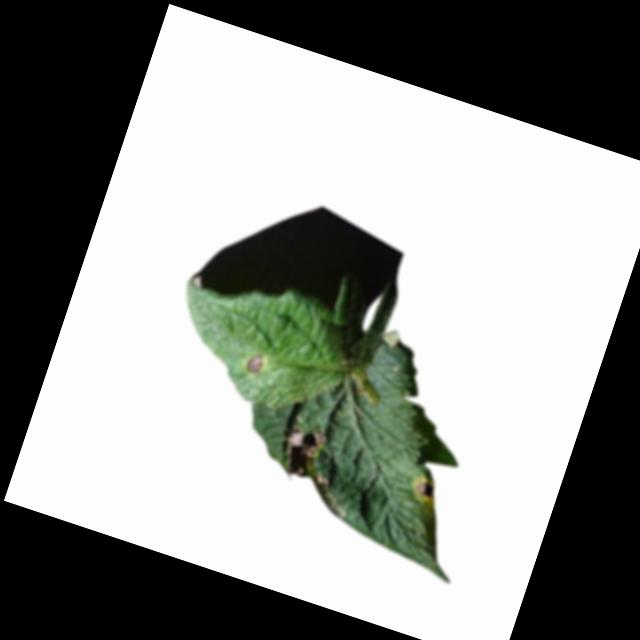Early_blight: (275, 420, 343, 490), (410, 475, 440, 505), (244, 350, 266, 376)
